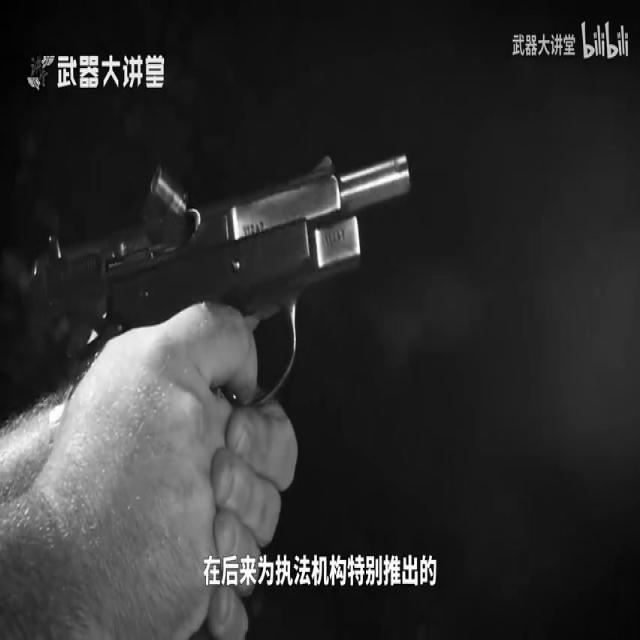Hand-Gun: (0, 97, 426, 507)
